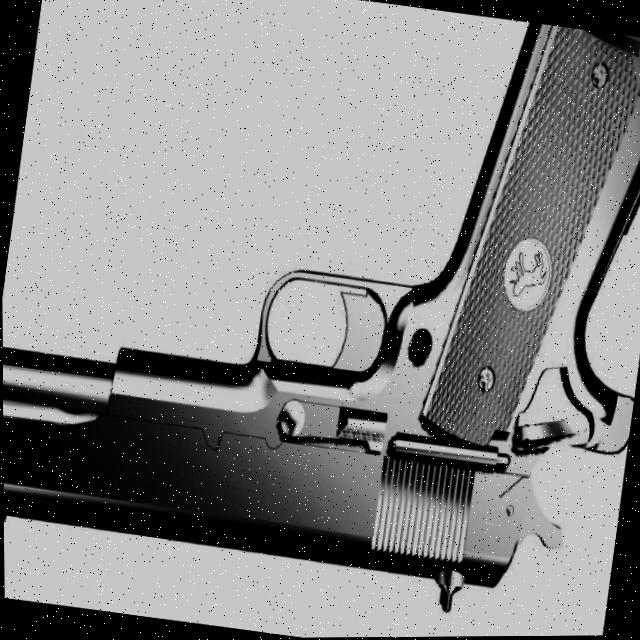pistol: (0, 0, 640, 627)
